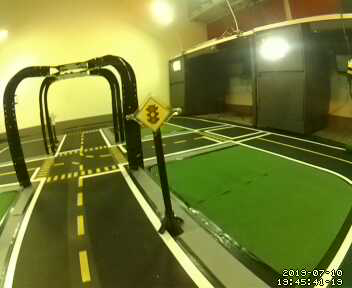Traffic light sign: (135, 95, 172, 132)
